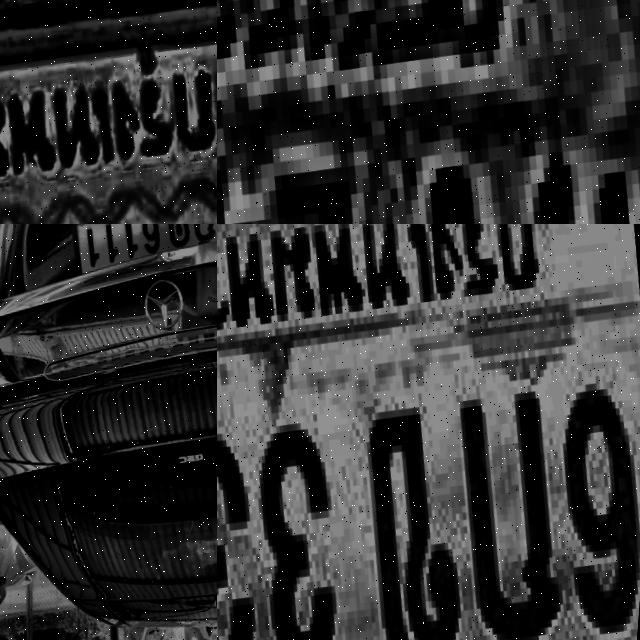license-plate: (217, 224, 640, 640), (217, 0, 640, 224), (0, 0, 217, 224), (57, 224, 217, 281)
